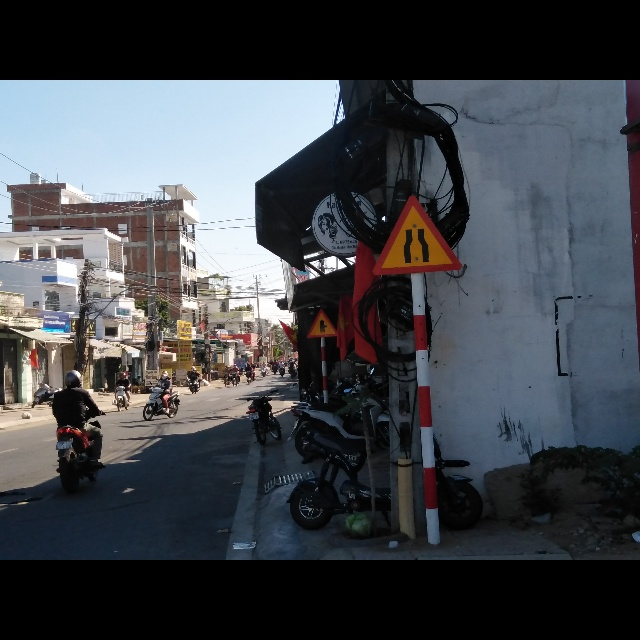Giao nhau với đường không ưu tiên: (308, 308, 339, 338)
Đường bị hẹp cả hai bên: (373, 193, 462, 270)
